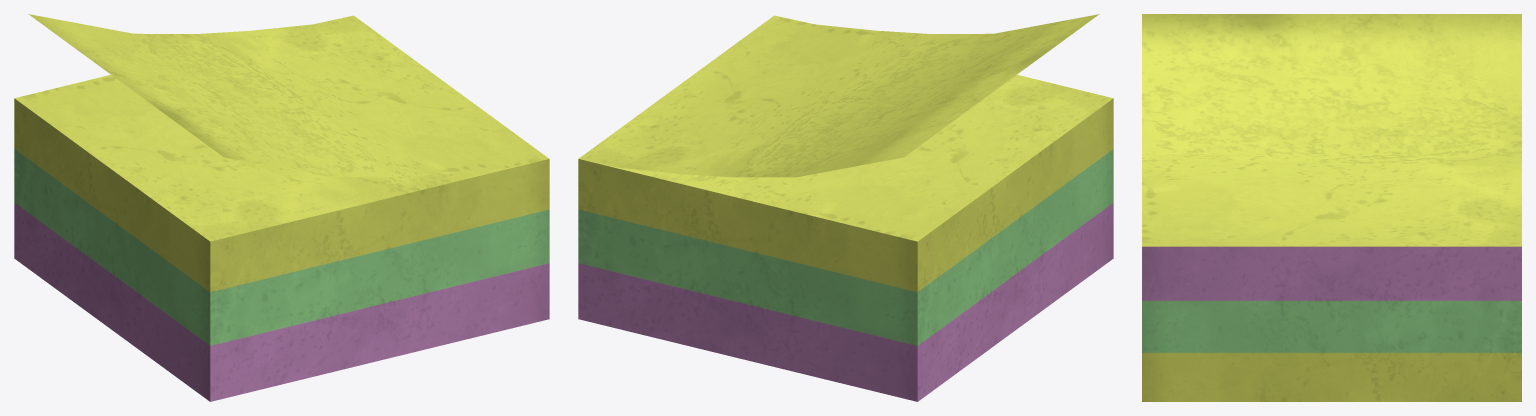
The model's file is SM_PostitNote_Stack.fbx.
3 renders of one model, left to right at view 1: azimuth 30°, elevation 25°; view 2: azimuth 150°, elevation 25°; view 3: azimuth 270°, elevation 25°, orthographic. The views are drawn at different scales.
Parts seen in each view (by area): view 1: SM_PostitNote_Stack_LOD0; view 2: SM_PostitNote_Stack_LOD0; view 3: SM_PostitNote_Stack_LOD0.
Boxes of the visible parts, x1,y1,x2,y2 form: SM_PostitNote_Stack_LOD0: (14,14,549,401); SM_PostitNote_Stack_LOD0: (578,14,1113,401); SM_PostitNote_Stack_LOD0: (1142,14,1521,401).
Size of the model in its own units: 11.95 by 11.95 by 8.12.
